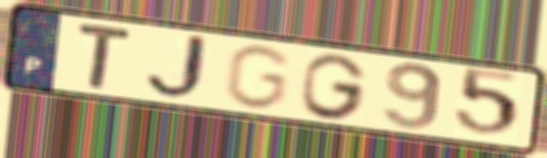5: (452, 65, 523, 144)
9: (381, 61, 443, 132)
G: (220, 42, 295, 112), (299, 51, 372, 122)
J: (143, 32, 219, 102)
T: (74, 20, 136, 92)
